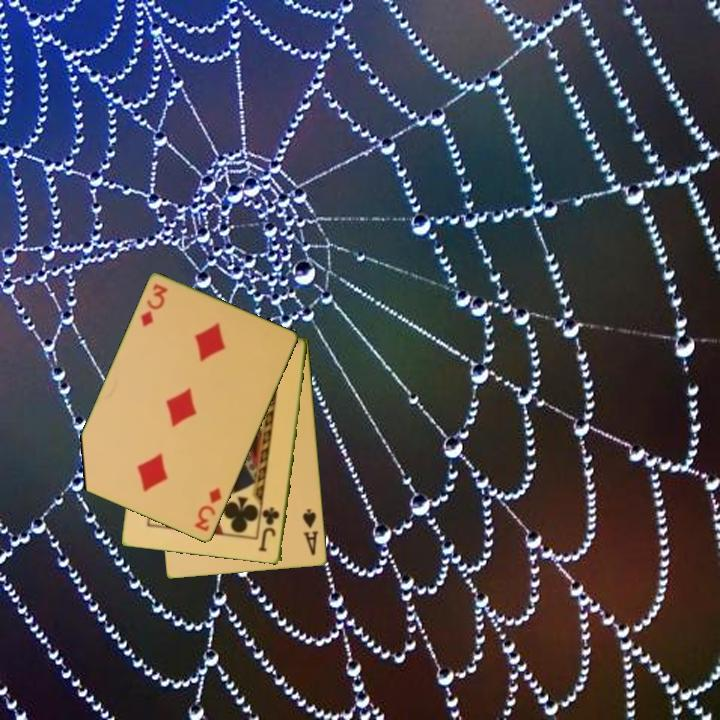3d: (191, 484, 225, 535), (137, 280, 171, 331)
As: (299, 505, 321, 558)
Jc: (256, 504, 282, 555)
